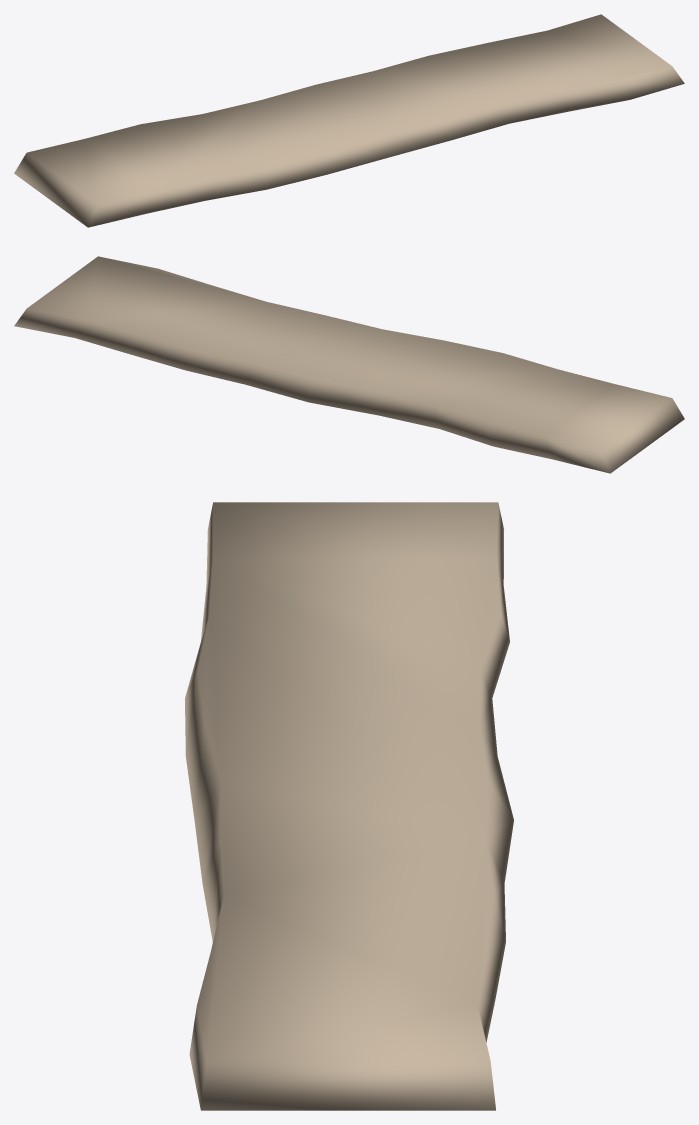
Rendered from bench_tapered.glb.
The picture shows the model from 3 angles, top to bottom: view 1: azimuth 30°, elevation 25°; view 2: azimuth 150°, elevation 25°; view 3: azimuth 270°, elevation 25°; orthographic projection. The views are drawn at different scales.
Visible parts, largest first — view 1: TableTop; view 2: TableTop; view 3: TableTop.
Boxes of the visible parts, x1,y1,x2,y2 form: TableTop: (14, 14, 684, 227); TableTop: (14, 256, 684, 473); TableTop: (185, 502, 513, 1110).
Bounding box in the file's own units: 2.6 × 0.08 × 0.6222.
